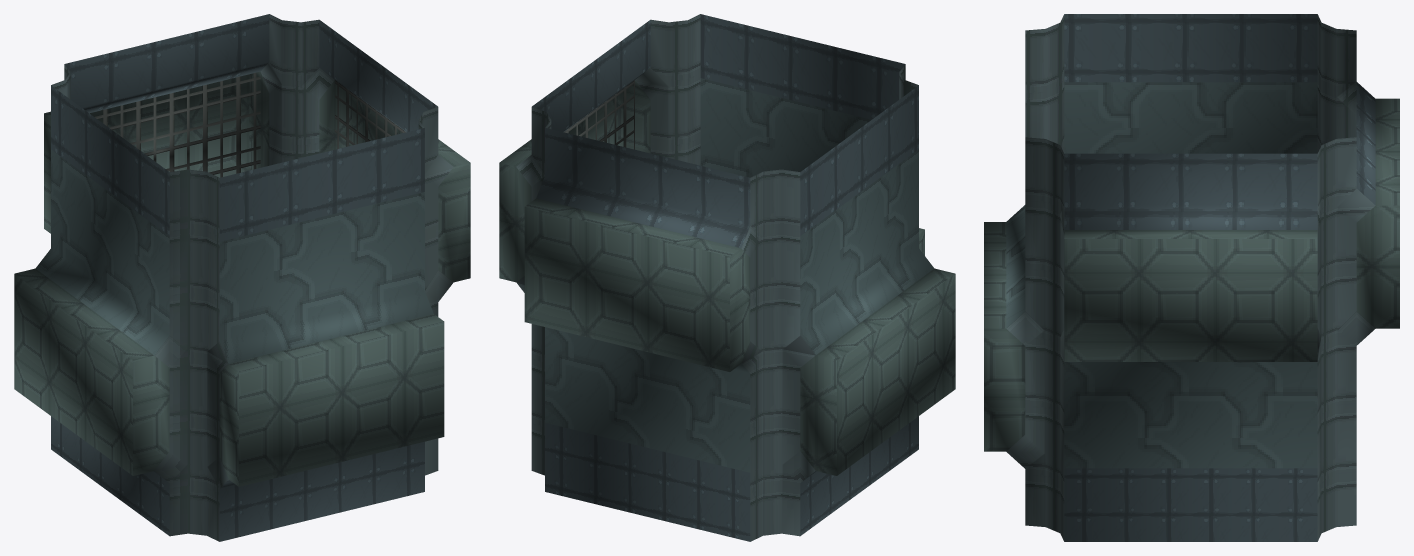
File: RoomBase2.glb
3 views of the same model, side by side, from view 1: azimuth 30°, elevation 25°; view 2: azimuth 150°, elevation 25°; view 3: azimuth 270°, elevation 25° (orthographic). The views are drawn at different scales.
Visible parts, largest first — view 1: Cube; view 2: Cube; view 3: Cube.
Boxes of the visible parts, bbox=[...] form: Cube: bbox=[14, 14, 470, 541]; Cube: bbox=[499, 14, 955, 541]; Cube: bbox=[984, 14, 1399, 541].
Size of the model in its own units: 9.41 by 9.7 by 9.42.
Materials: 5 (5 with a texture image).
